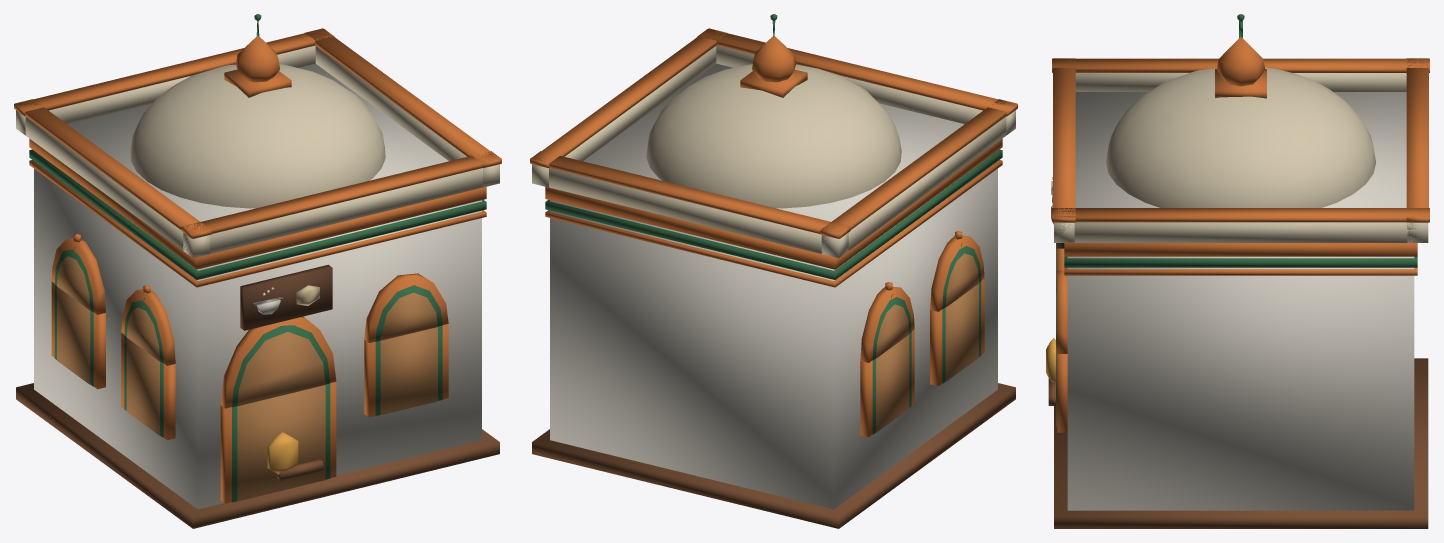
File: curry.glb
3 renders of one model, left to right at view 1: azimuth 30°, elevation 25°; view 2: azimuth 150°, elevation 25°; view 3: azimuth 270°, elevation 25°, orthographic. The views are drawn at different scales.
Parts seen in each view (by area): view 1: curry; view 2: curry; view 3: curry.
Boxes of the visible parts, x1,y1,x2,y2 form: curry: (14,14,501,528); curry: (530,14,1017,528); curry: (1046,14,1429,528).
Bounding box in the file's own units: 2.18 × 2.78 × 2.22.
